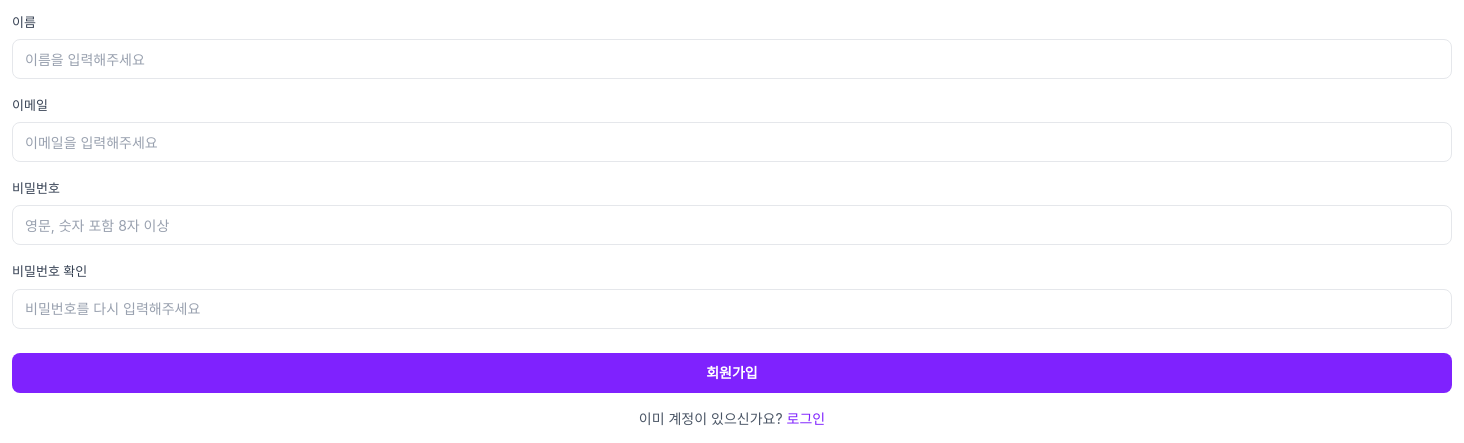
SignupForm › 회원가입 중 버튼이 로딩 상태로 표시된다
Type "홍길동" into the field labelled "이름" at (732, 59), box [12, 39, 1452, 79]
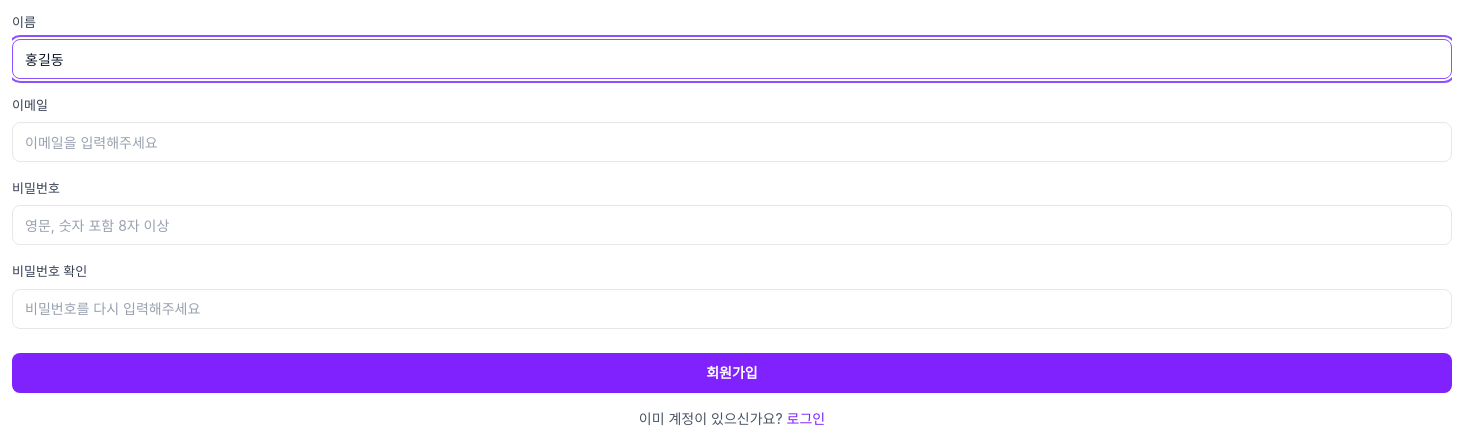
Type "new@test.com" into the field labelled "이메일" at (732, 142), box [12, 122, 1452, 162]
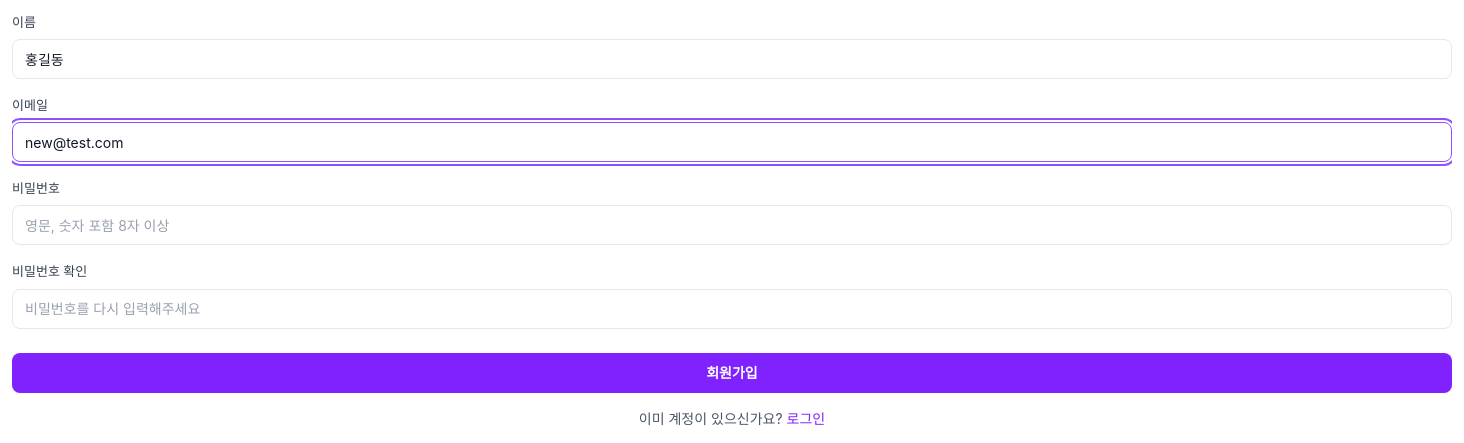
Type "password123" into the password field labelled "비밀번호" at (732, 225), box [12, 205, 1452, 245]
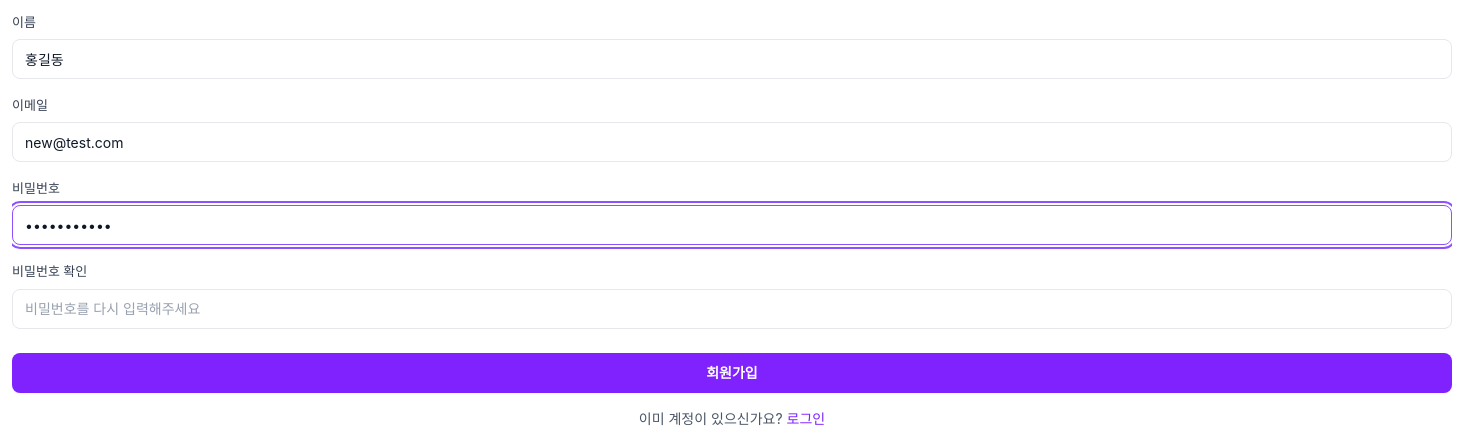
Type "password123" into the password field labelled "비밀번호 확인" at (732, 308), box [12, 288, 1452, 328]
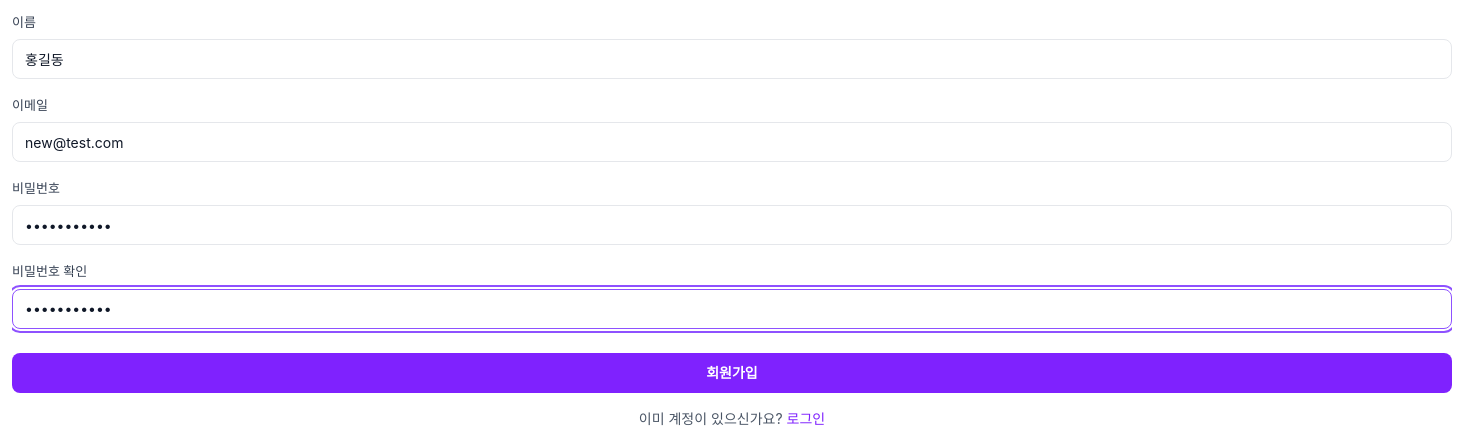
Click the button "회원가입" at (732, 372), box [12, 352, 1452, 392]
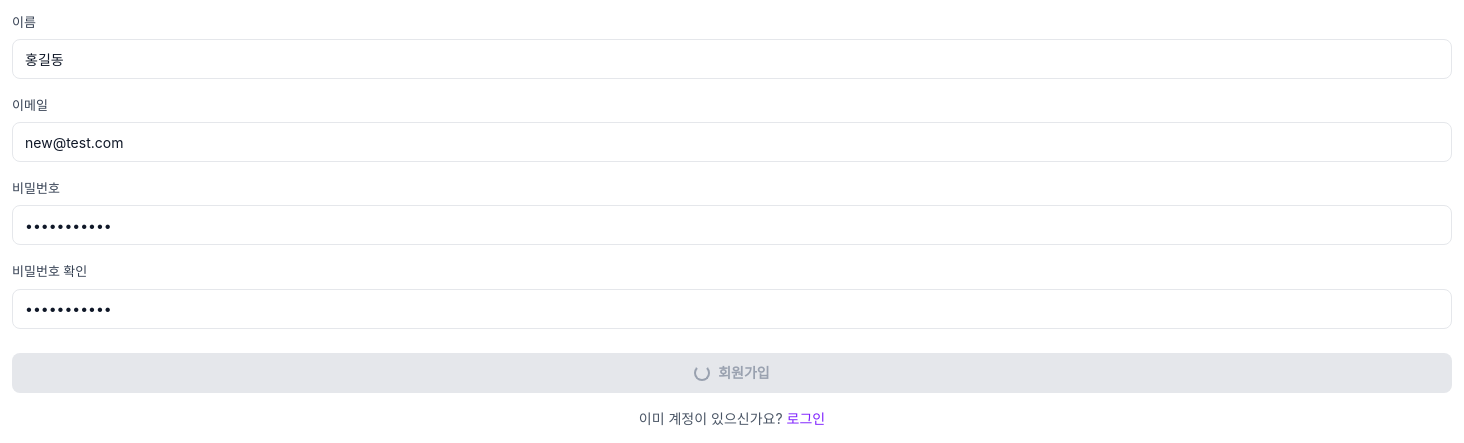
Expected: the button "회원가입" is disabled, [12, 352, 1452, 392]
